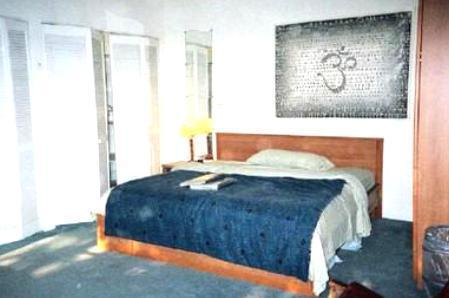Armario: (46, 28, 158, 225), (0, 16, 45, 238), (419, 0, 449, 288)
